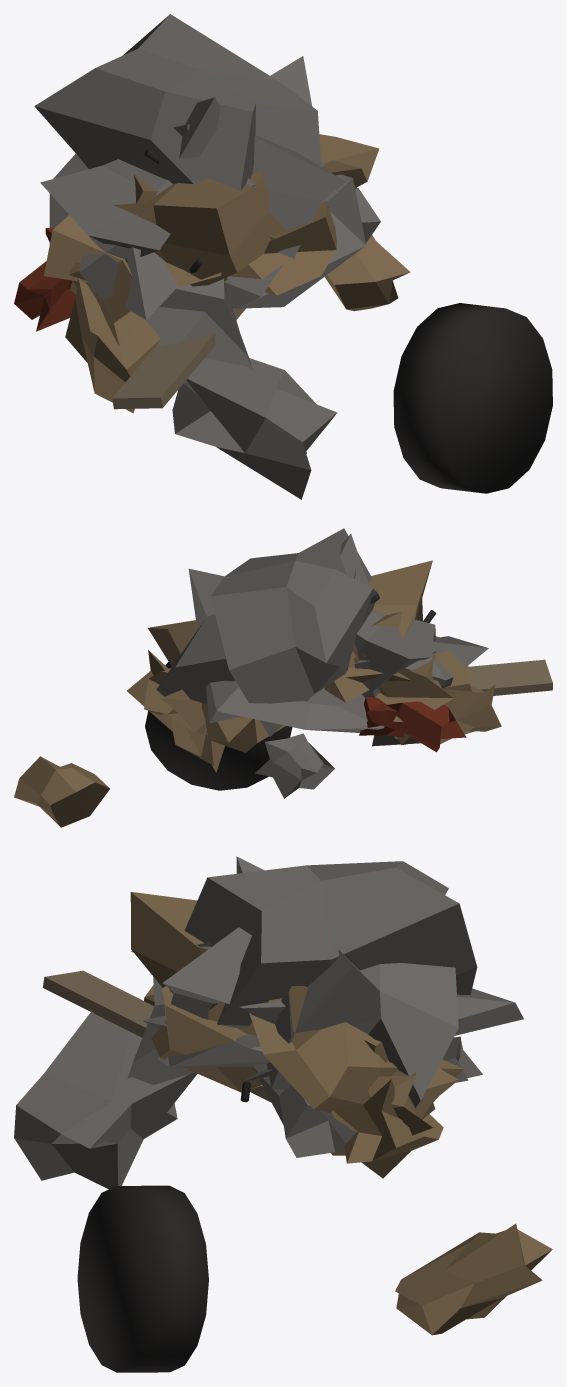
Rendered from cover_rubble_4.glb.
The picture shows the model from 3 angles, top to bottom: view 1: azimuth 30°, elevation 25°; view 2: azimuth 150°, elevation 25°; view 3: azimuth 270°, elevation 25°; orthographic projection. The views are drawn at different scales.
Visible parts, largest first — view 1: lump_12, tyre, lump_21, lump_14, lump_18, lump_3, lump_8, lump_15, slab, lump_11, lump_20, plank (+5 smaller); view 2: lump_12, slab, lump_22, tyre, lump_6, lump_3, lump_14, lump_10, lump_2, lump_11, plank, lump_1 (+7 smaller); view 3: lump_12, tyre, lump_21, lump_22, lump_6, lump_10, lump_14, lump_8, lump_17, slab, lump_20, plank (+4 smaller).
Boxes of the visible parts, left/top/right/bottom form: lump_12: left=34, top=14, right=321, bottom=190; tyre: left=393, top=303, right=552, bottom=493; lump_21: left=172, top=358, right=337, bottom=499; lump_14: left=69, top=169, right=285, bottom=286; lump_18: left=79, top=233, right=252, bottom=370; lump_3: left=40, top=159, right=255, bottom=262; lump_8: left=179, top=97, right=345, bottom=258; lump_15: left=65, top=278, right=160, bottom=413; slab: left=49, top=153, right=366, bottom=308; lump_11: left=44, top=215, right=227, bottom=346; lump_20: left=229, top=201, right=336, bottom=295; plank: left=112, top=308, right=245, bottom=409; lump_12: left=210, top=528, right=378, bottom=736; slab: left=206, top=680, right=384, bottom=732; lump_22: left=156, top=568, right=235, bottom=704; tyre: left=145, top=662, right=292, bottom=790; lump_6: left=14, top=756, right=109, bottom=827; lump_3: left=355, top=610, right=435, bottom=698; lump_14: left=345, top=560, right=442, bottom=689; lump_10: left=148, top=620, right=285, bottom=752; lump_2: left=255, top=733, right=334, bottom=798; lump_11: left=360, top=636, right=472, bottom=721; plank: left=468, top=659, right=552, bottom=695; lump_1: left=376, top=701, right=466, bottom=752; lump_12: left=184, top=861, right=477, bottom=1029; tyre: left=77, top=1185, right=208, bottom=1372; lump_21: left=14, top=1011, right=197, bottom=1189; lump_22: left=267, top=950, right=458, bottom=1107; lump_6: left=395, top=1223, right=552, bottom=1335; lump_10: left=249, top=986, right=463, bottom=1112; lump_14: left=130, top=892, right=281, bottom=1034; lump_8: left=162, top=856, right=285, bottom=1024; lump_17: left=331, top=1079, right=443, bottom=1178; slab: left=142, top=988, right=523, bottom=1081; lump_20: left=151, top=986, right=262, bottom=1092; plank: left=43, top=970, right=271, bottom=1102.
Bounding box in the file's own units: 1.88 × 1.54 × 1.85.
